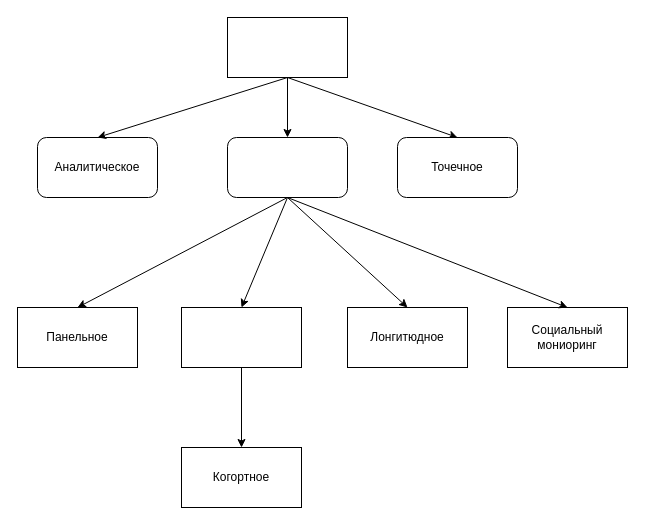
The diagram is 645 pixels wide and 525 high, and some of its shapes have lost their labels. The shapes that lost their labels are listed below. From the top down, each one's centre as x and y in pixels, then its label:
At pixel 287 47: "Виды соц исследований".
At pixel 287 167: "Повторное".
At pixel 241 337: "Трендовое".
